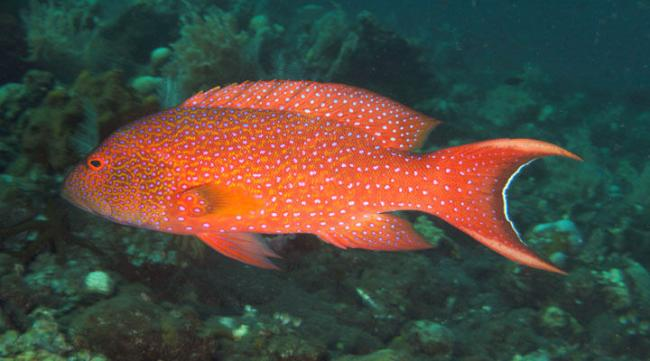fish: (59, 78, 583, 274)
